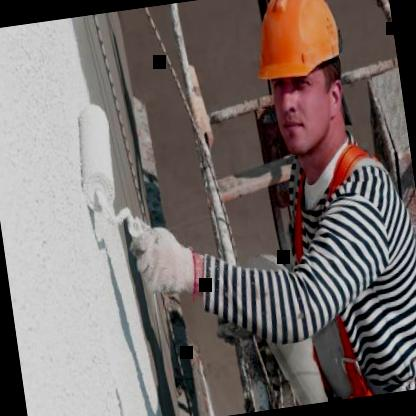helmet: (239, 0, 373, 178)
